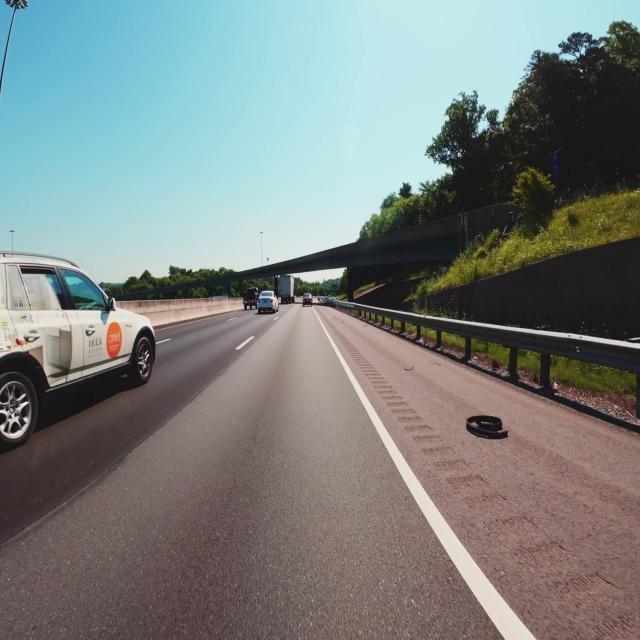car: (0, 253, 155, 445), (258, 291, 278, 313), (302, 293, 313, 306)
